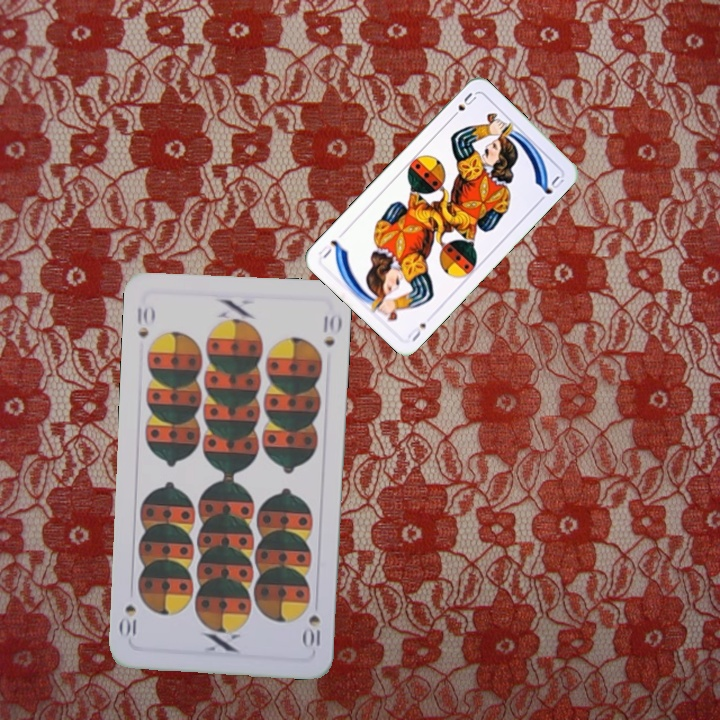S10: (133, 302, 157, 340), (301, 610, 323, 649)
SU: (446, 88, 479, 122), (403, 319, 429, 344)
